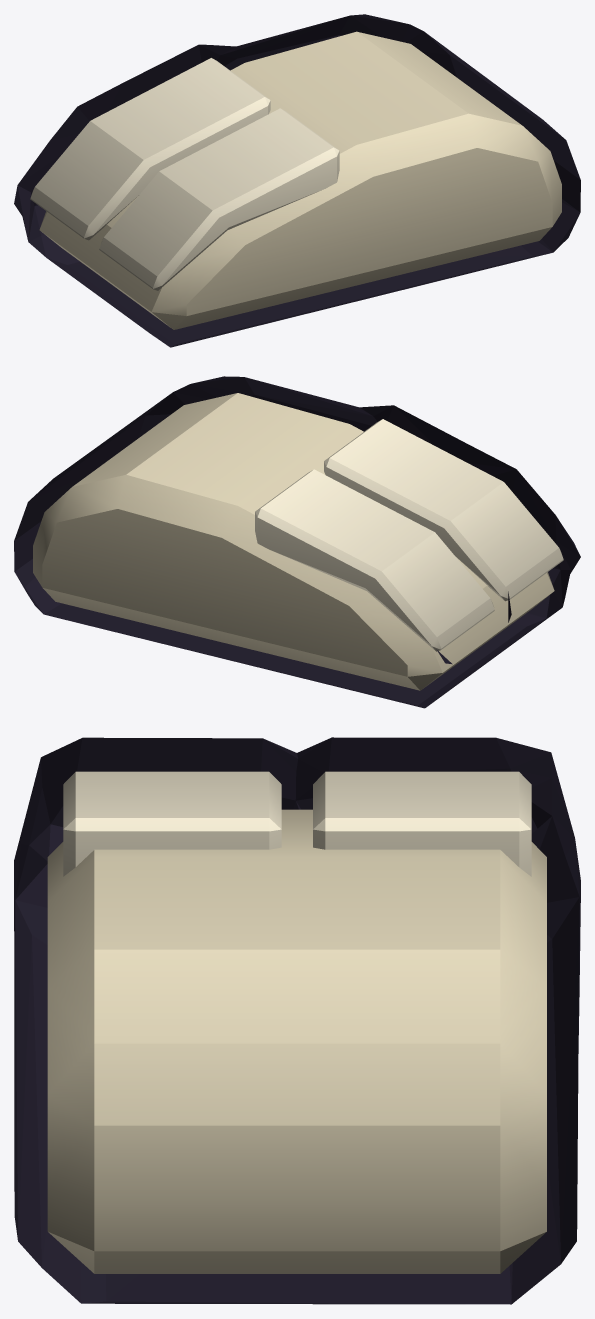
Rendered from Mouse_Outline.fbx.
The picture shows the model from 3 angles, top to bottom: view 1: azimuth 30°, elevation 25°; view 2: azimuth 150°, elevation 25°; view 3: azimuth 270°, elevation 25°; orthographic projection. The views are drawn at different scales.
Visible parts, largest first — view 1: Mouse; view 2: Mouse; view 3: Mouse.
Boxes of the visible parts, x1,y1,x2,y2 form: Mouse: [14, 14, 580, 347]; Mouse: [14, 376, 580, 708]; Mouse: [14, 737, 580, 1304].
Bounding box in the file's own units: 0.5346 × 0.2087 × 0.3269.
1 material, 1 textured.
